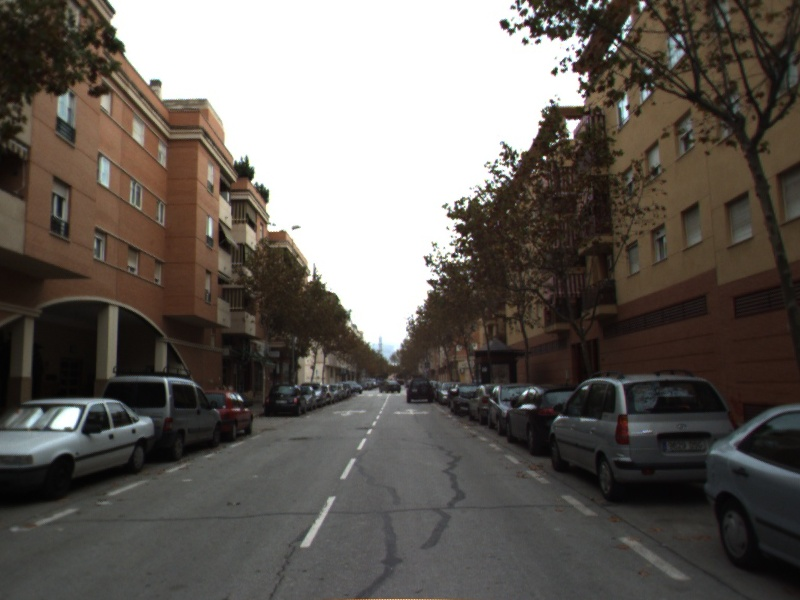STRAIGHT_LEFT_RIGHT: (391, 406, 432, 417)
